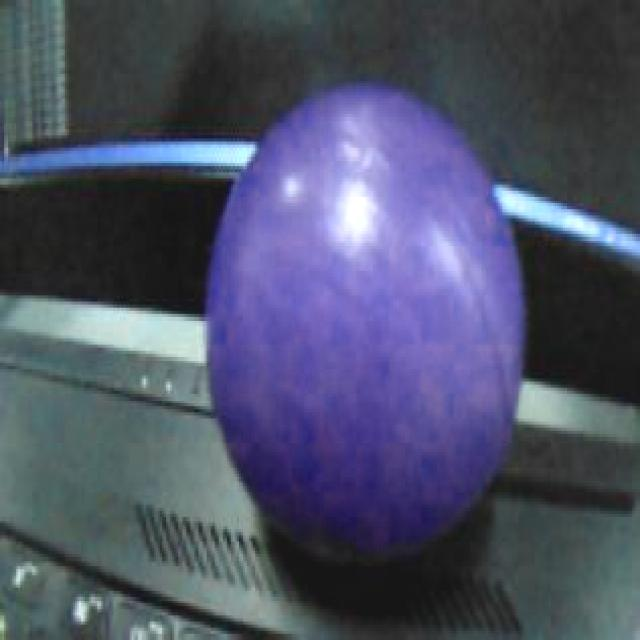BallPurple: (207, 79, 527, 548)
